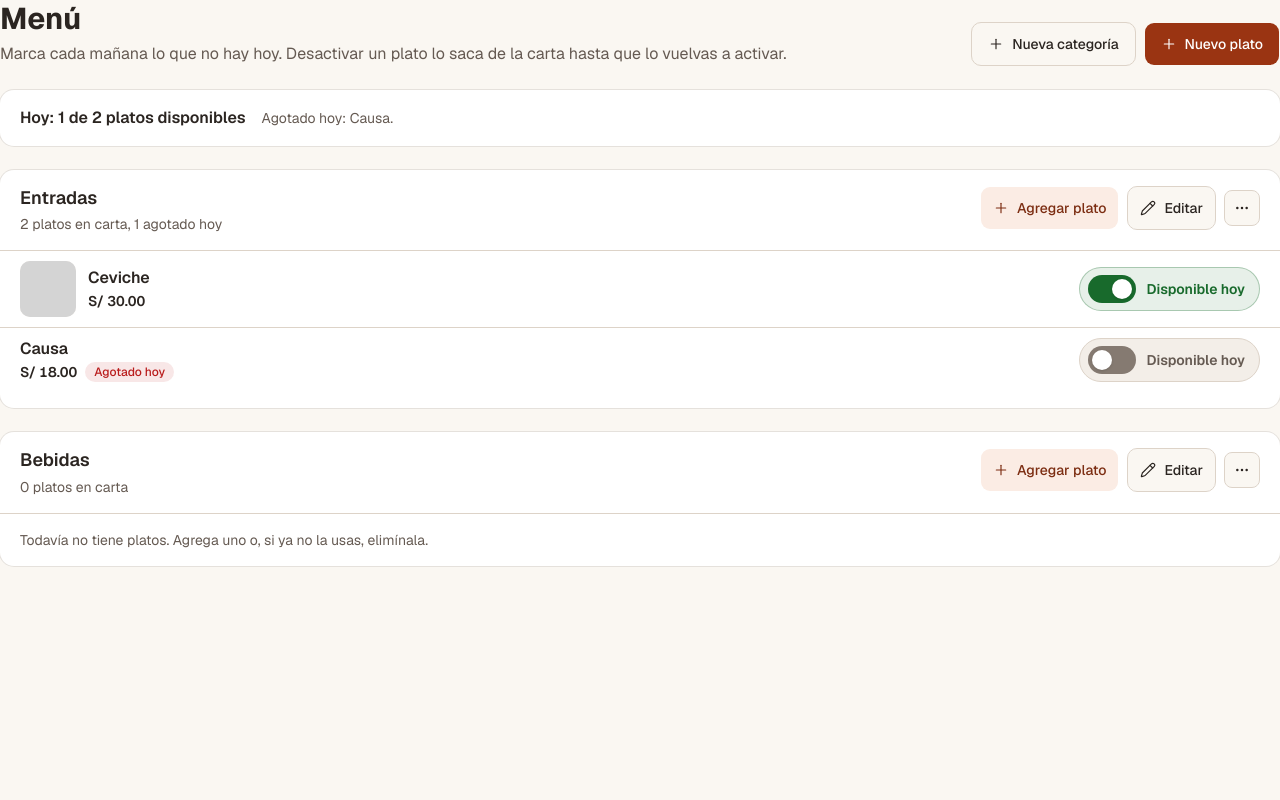
Test: DishPhotoField: la foto en la ficha del plato › quitar la foto la borra en el servidor y vuelve a «sin foto»
This screenshot has width=1280, height=800.
Click the button named "Ver la ficha de Ceviche" at coordinates (544, 289), box top-left (16, 251), bottom-right (1072, 327)
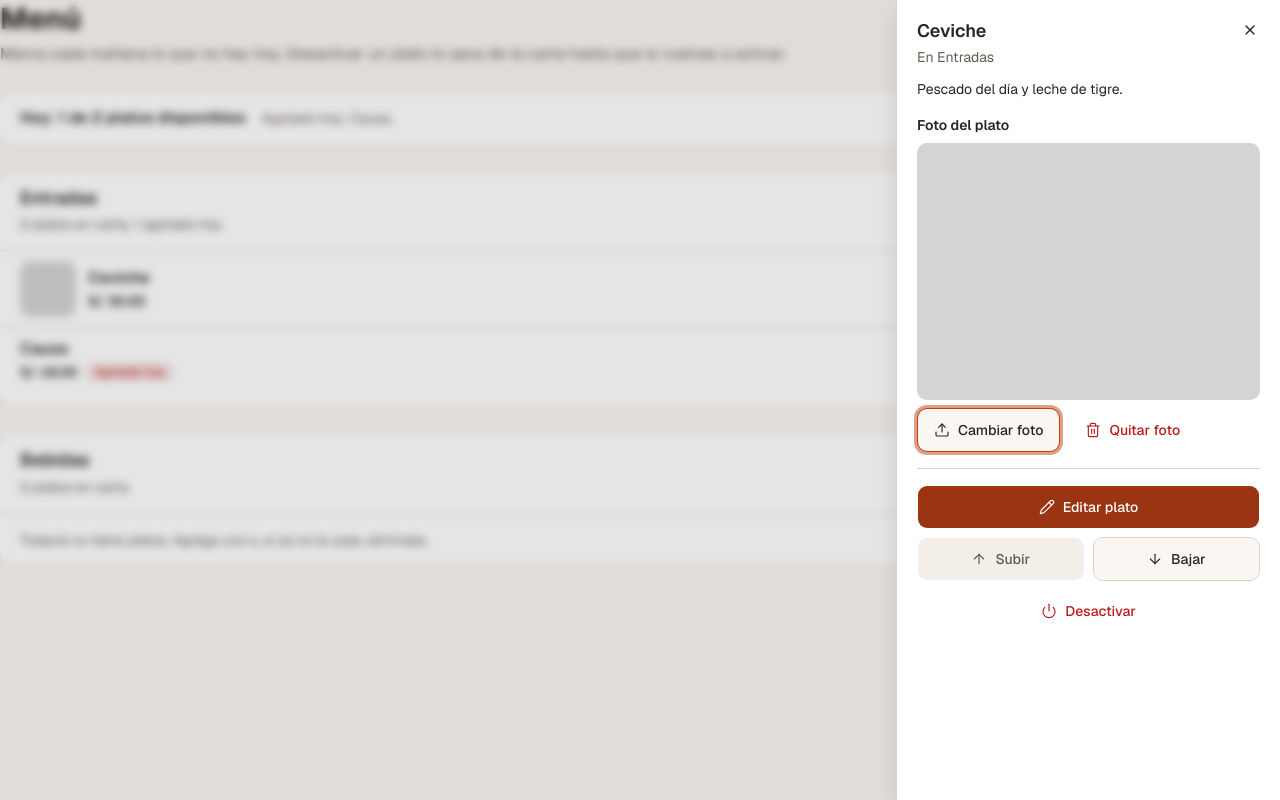
Click the button "Quitar foto" at coordinates (1133, 430), box top-left (1068, 408), bottom-right (1197, 452)
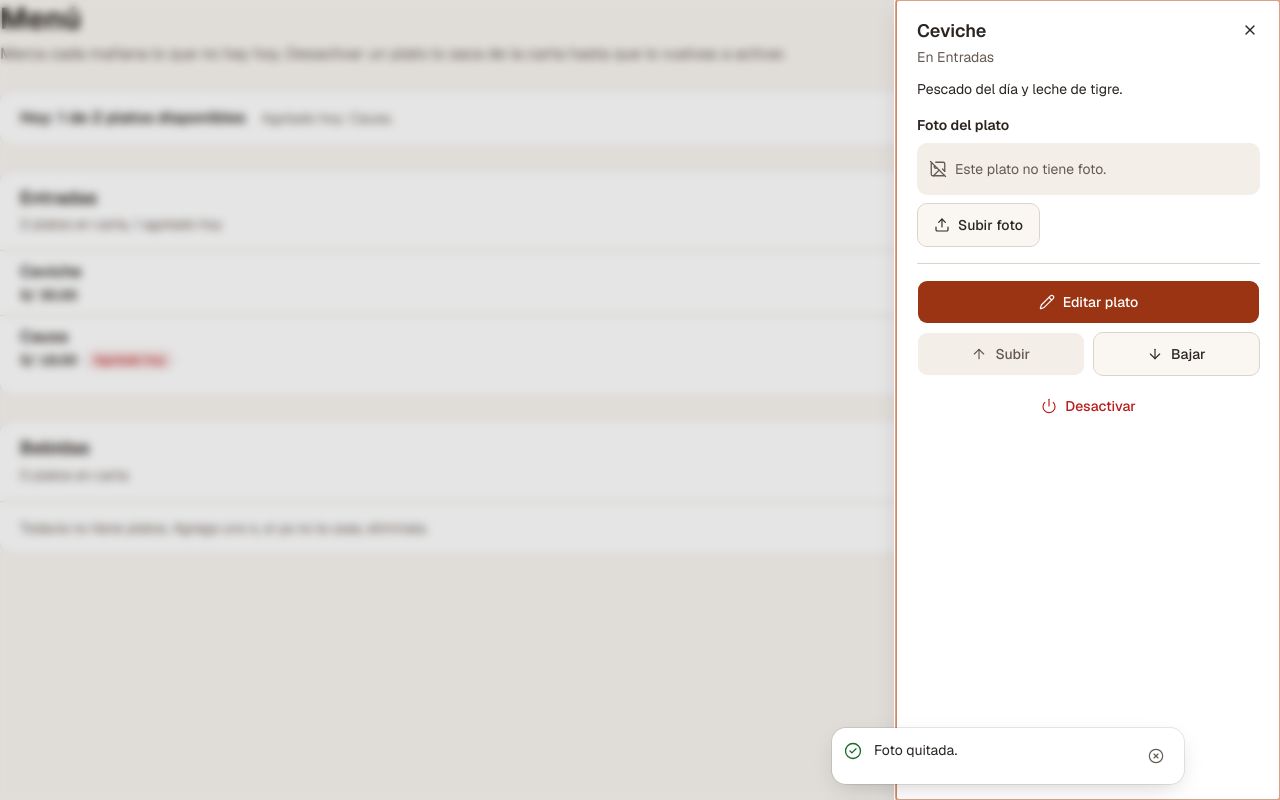
Check: the text "Foto quitada." is shown, box top-left (874, 741), bottom-right (957, 759)
Check: the text "Este plato no tiene foto." is shown, box top-left (955, 158), bottom-right (1106, 178)
